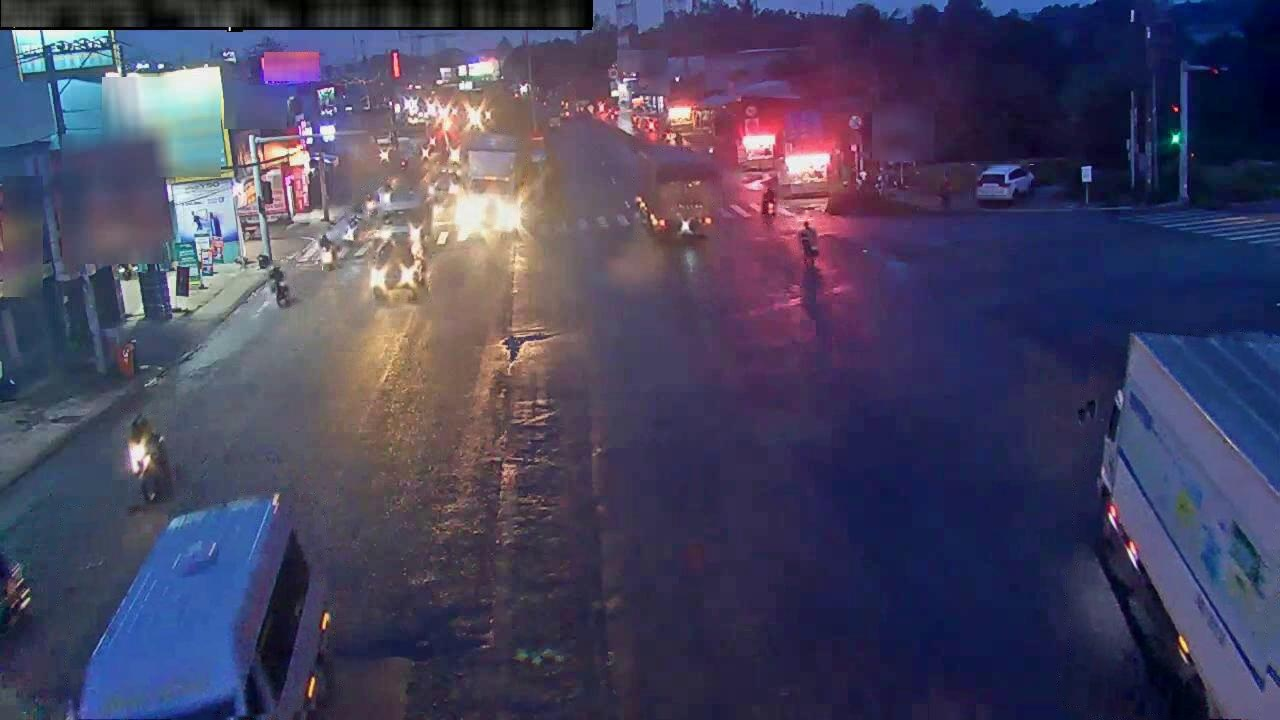Bus: (379, 187, 433, 239)
Car: (73, 493, 331, 719), (369, 224, 429, 304), (975, 164, 1033, 204), (429, 167, 460, 198)
Motorcyclist: (127, 415, 172, 502), (269, 265, 291, 308), (799, 221, 818, 263), (319, 234, 337, 270), (343, 212, 360, 246), (761, 187, 777, 220), (364, 191, 377, 214)
Truck: (1097, 332, 1279, 719), (635, 146, 721, 240), (463, 133, 518, 194)
